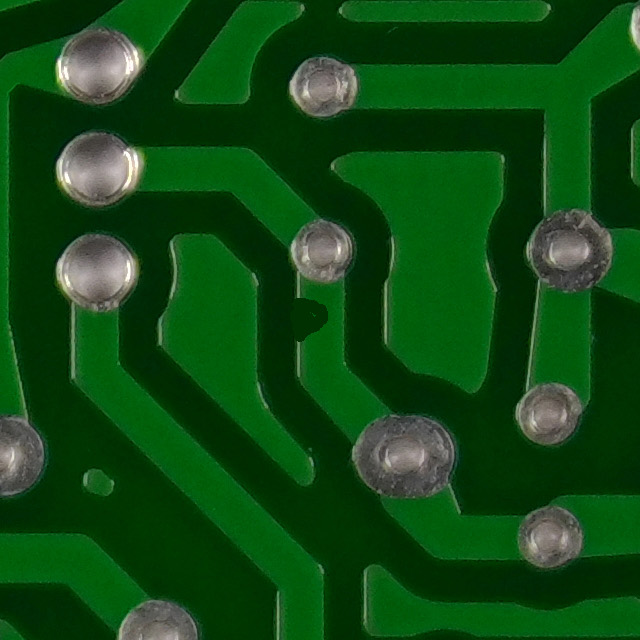mouse_bite: (283, 281, 358, 360)
